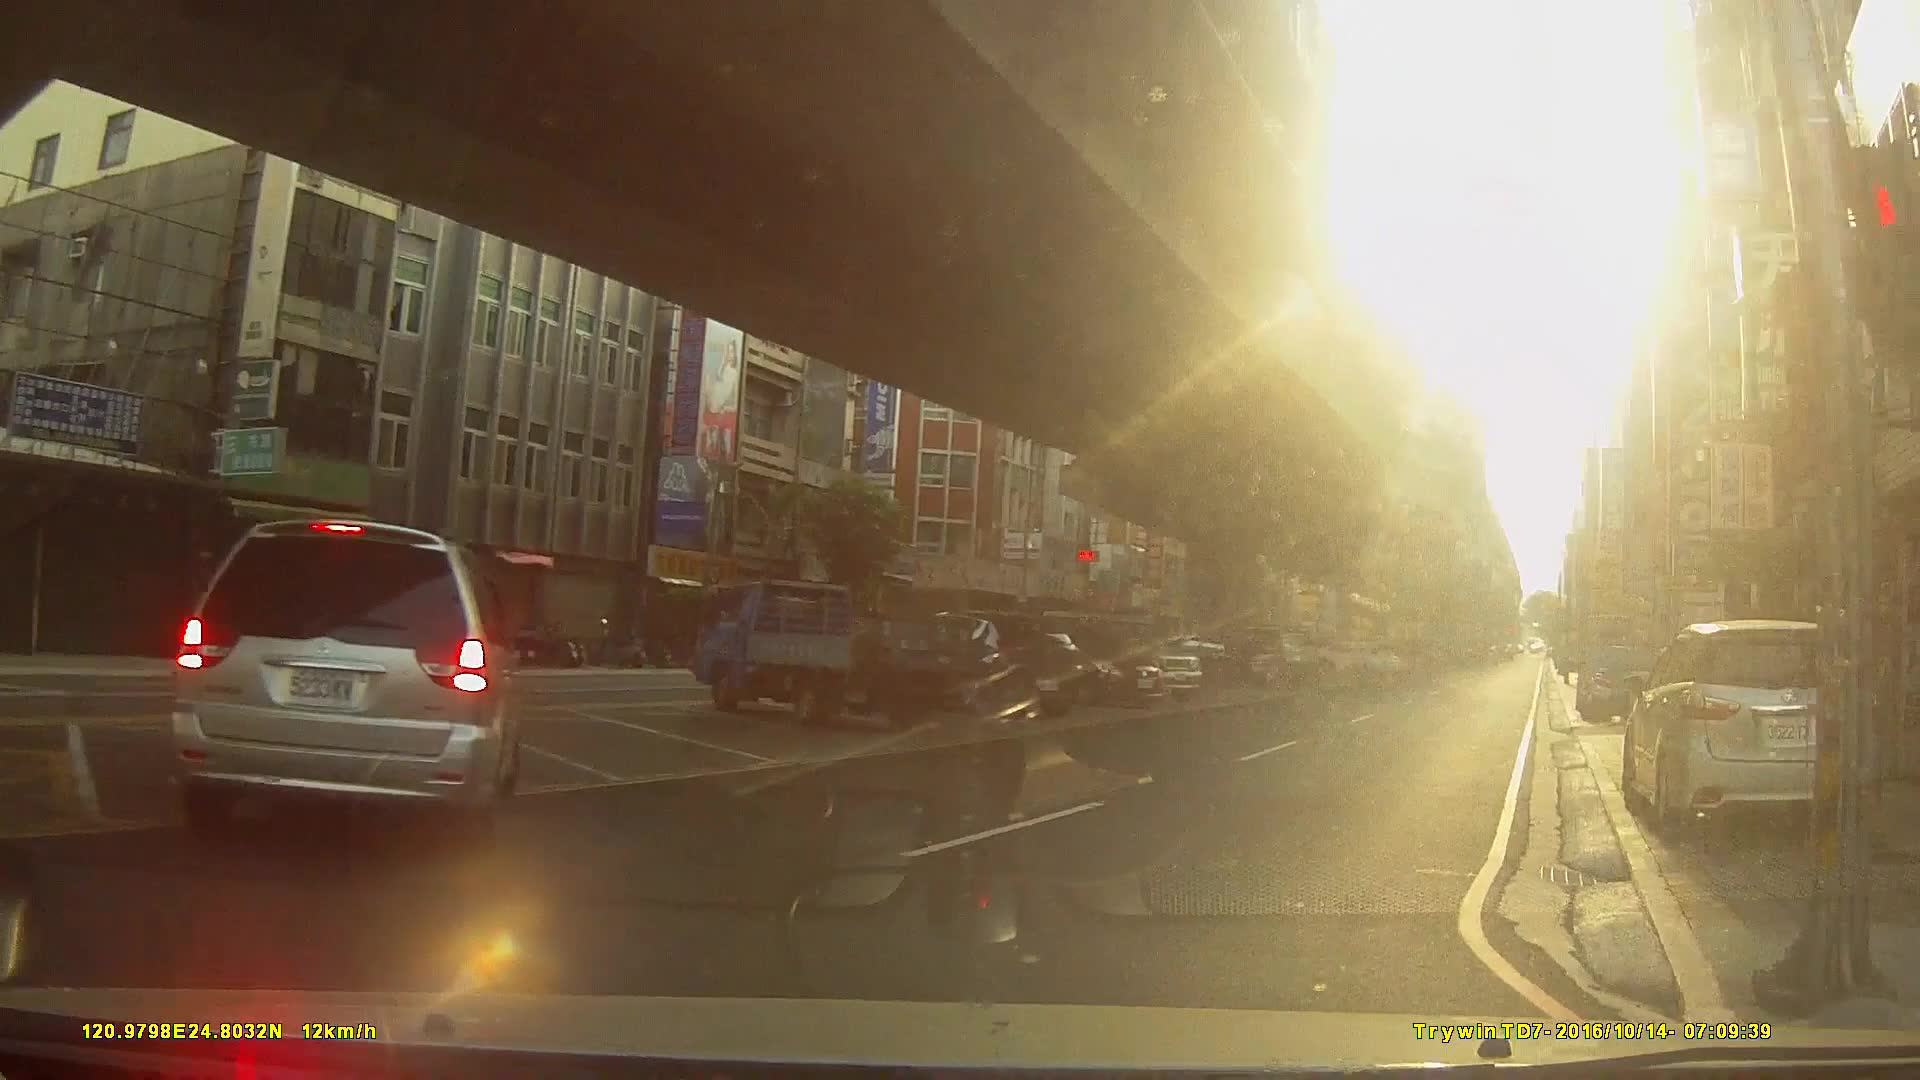vehicle: (167, 517, 520, 847), (1618, 616, 1888, 845), (688, 578, 967, 729), (898, 611, 1087, 719), (1000, 618, 1168, 707), (1129, 632, 1255, 687)
